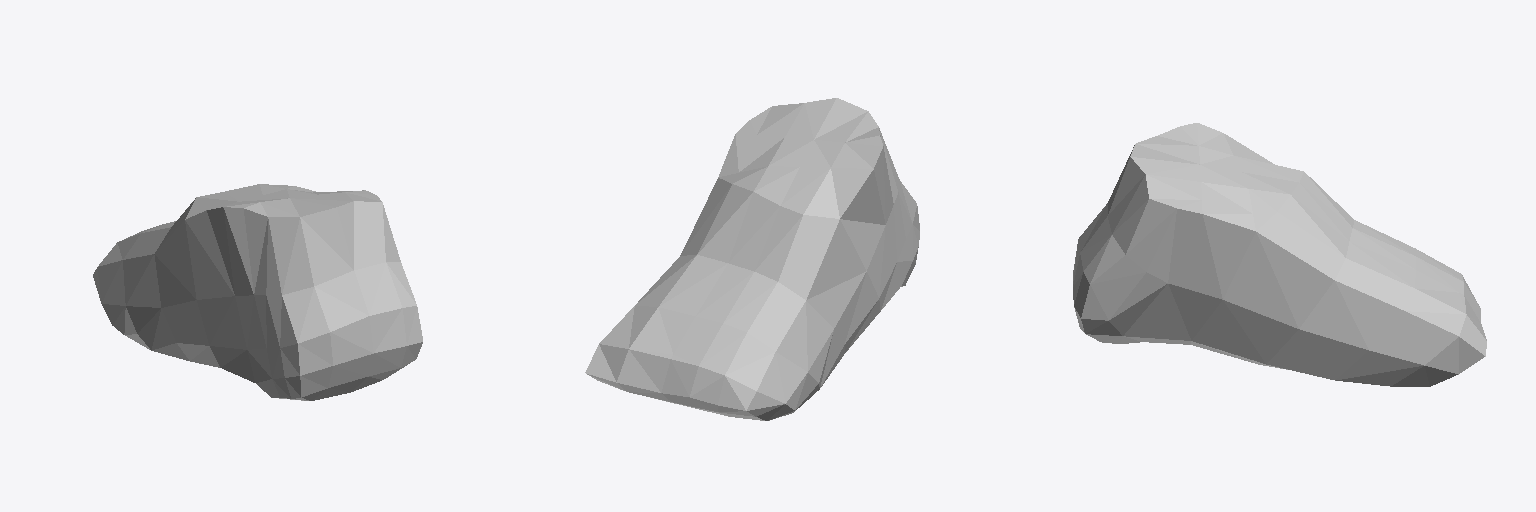
Rendered from feetv2left.obj.
3 views of the same model, side by side, from view 1: azimuth 30°, elevation 25°; view 2: azimuth 150°, elevation 25°; view 3: azimuth 270°, elevation 25° (orthographic).
Parts seen in each view (by area): view 1: Mesh; view 2: Mesh; view 3: Mesh.
Part boxes in pixels (left/top/right/bottom): Mesh: left=93, top=184, right=422, bottom=400; Mesh: left=585, top=98, right=919, bottom=420; Mesh: left=1073, top=123, right=1486, bottom=386.
Size of the model in its own units: 1.3 by 1.48 by 2.72.